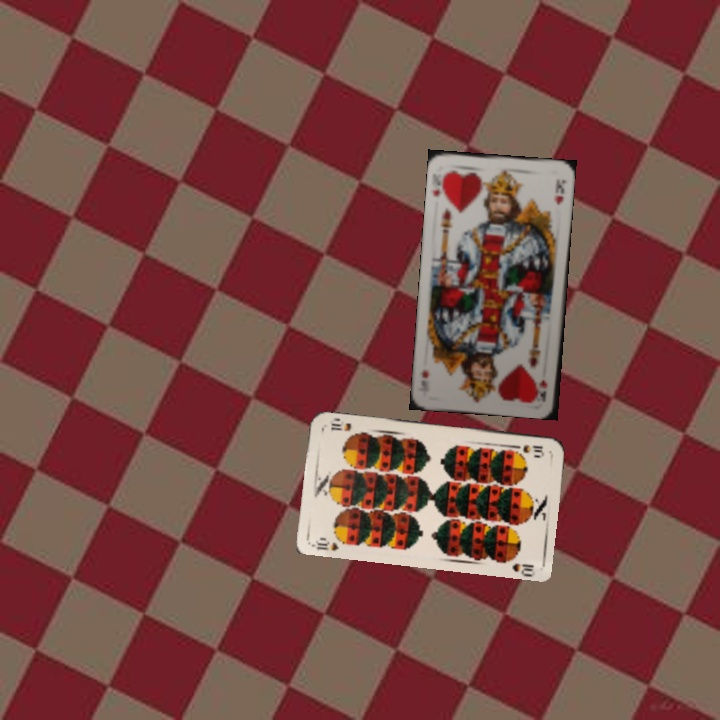HK: (429, 168, 450, 199), (535, 376, 549, 403)
S10: (309, 533, 341, 553), (510, 440, 546, 457)
